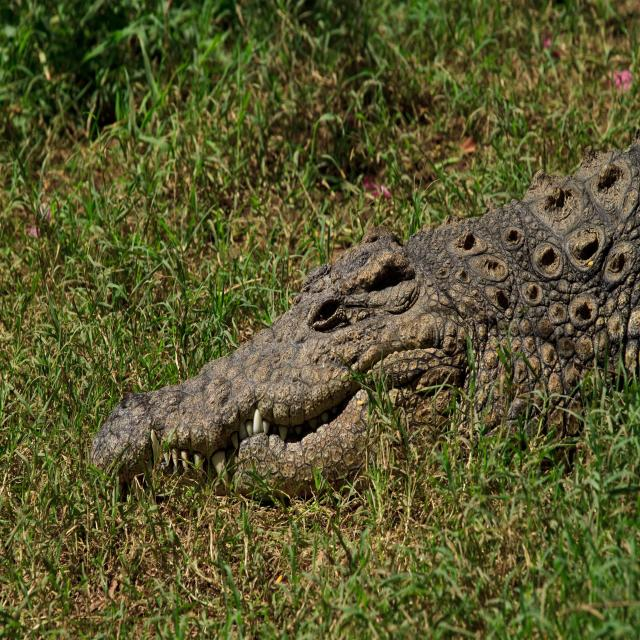crocodile: (89, 143, 638, 493)
